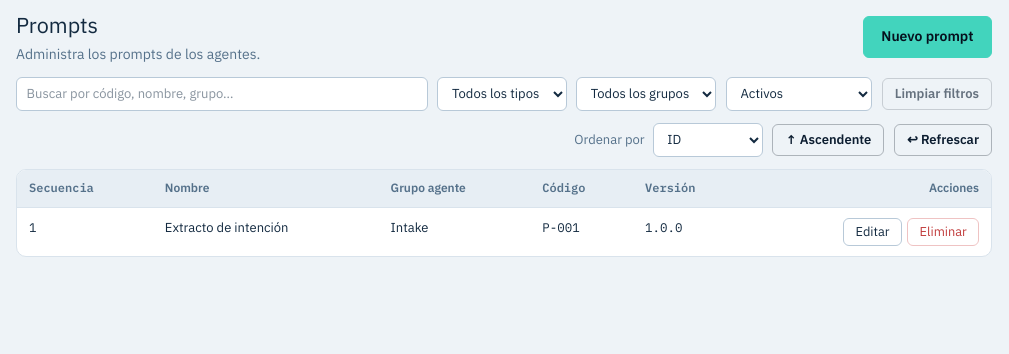
Test: PromptsListComponent › should show a message when the filters exclude all prompts
Type "no-existe-esta-busqueda" into the search field with class "search-input". click: (222, 94)
box: [16,77,428,111]
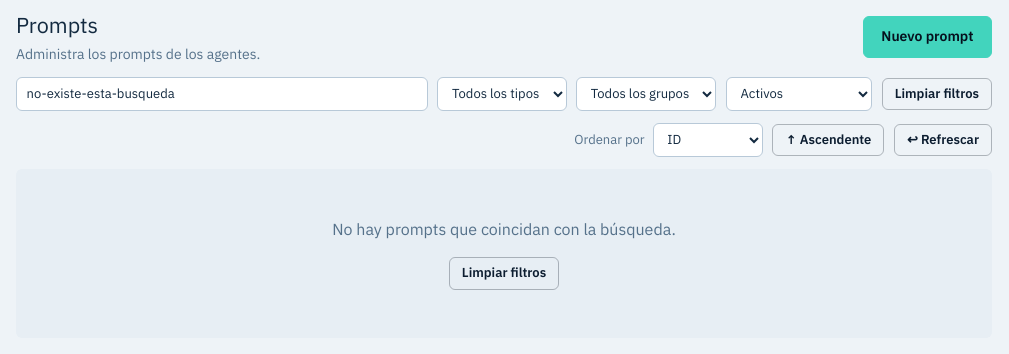
Expected: the element with class "state" is shown, [16,169,992,338]
Expected: the element with class "state" shows "No hay prompts que coincidan", [332,219,676,239]
